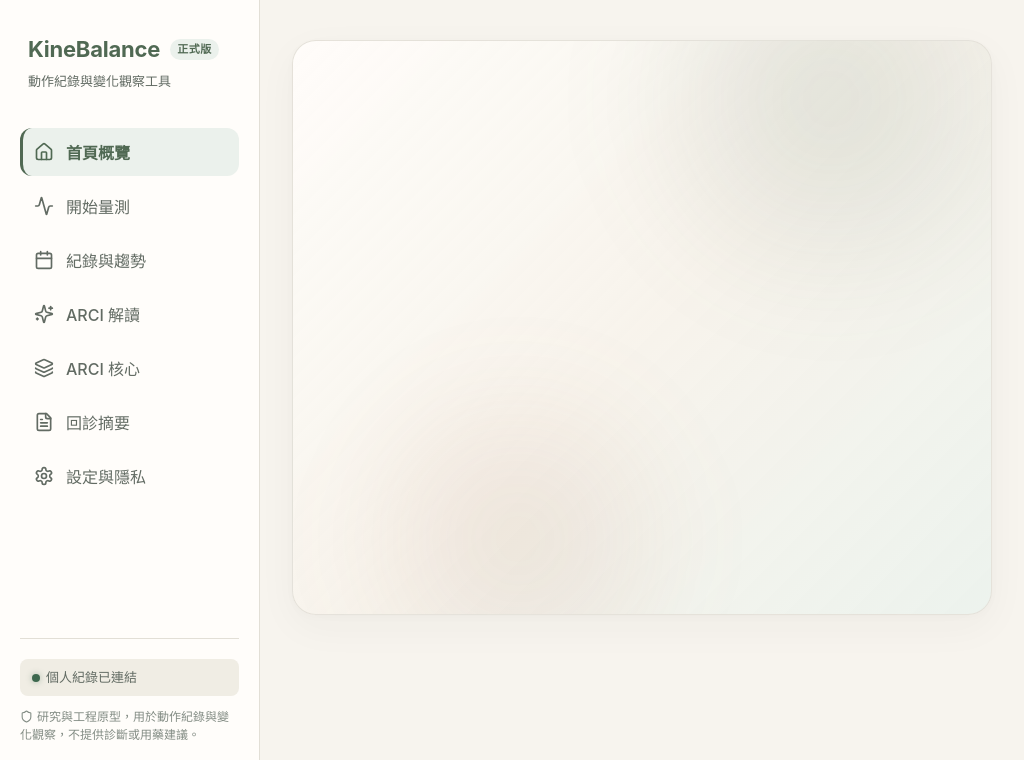
KineBalanceApp Formal UI › navigates to settings and manages identity, storage quota, and deletion
Click the button "設定與隱私".
click(130, 476)  # box 20,452 -> 239,500
(page scrolled)
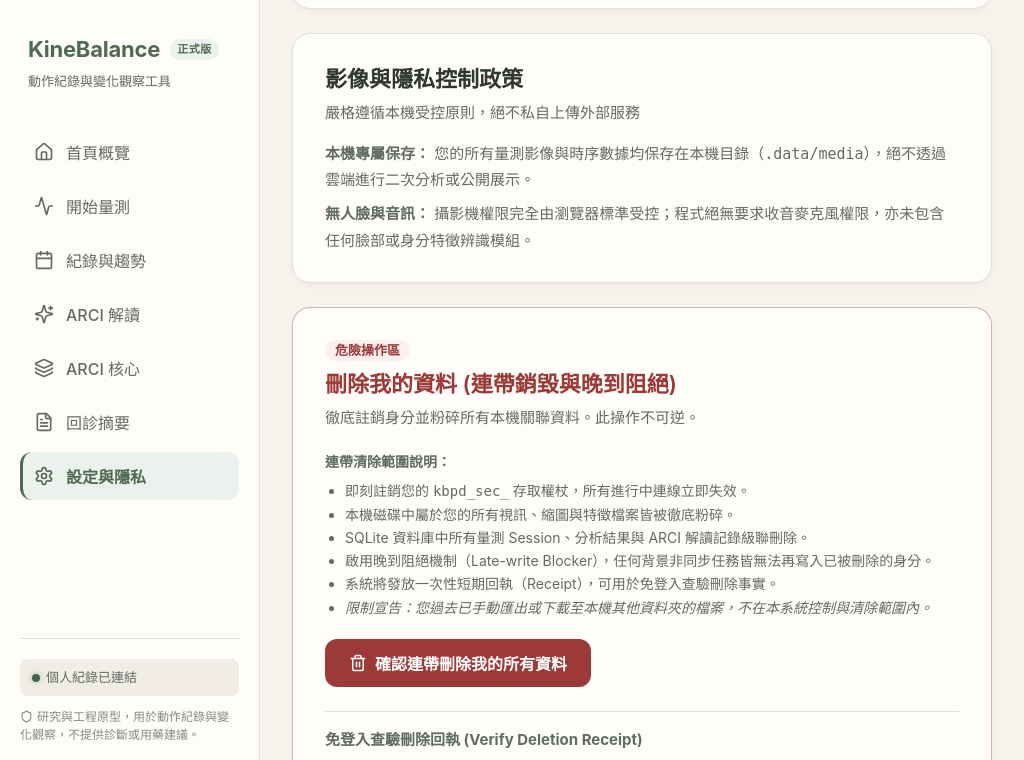
Expected: the heading "刪除我的資料 (連帶銷毀與晚到阻絕)" is shown, 325,367 -> 700,402
